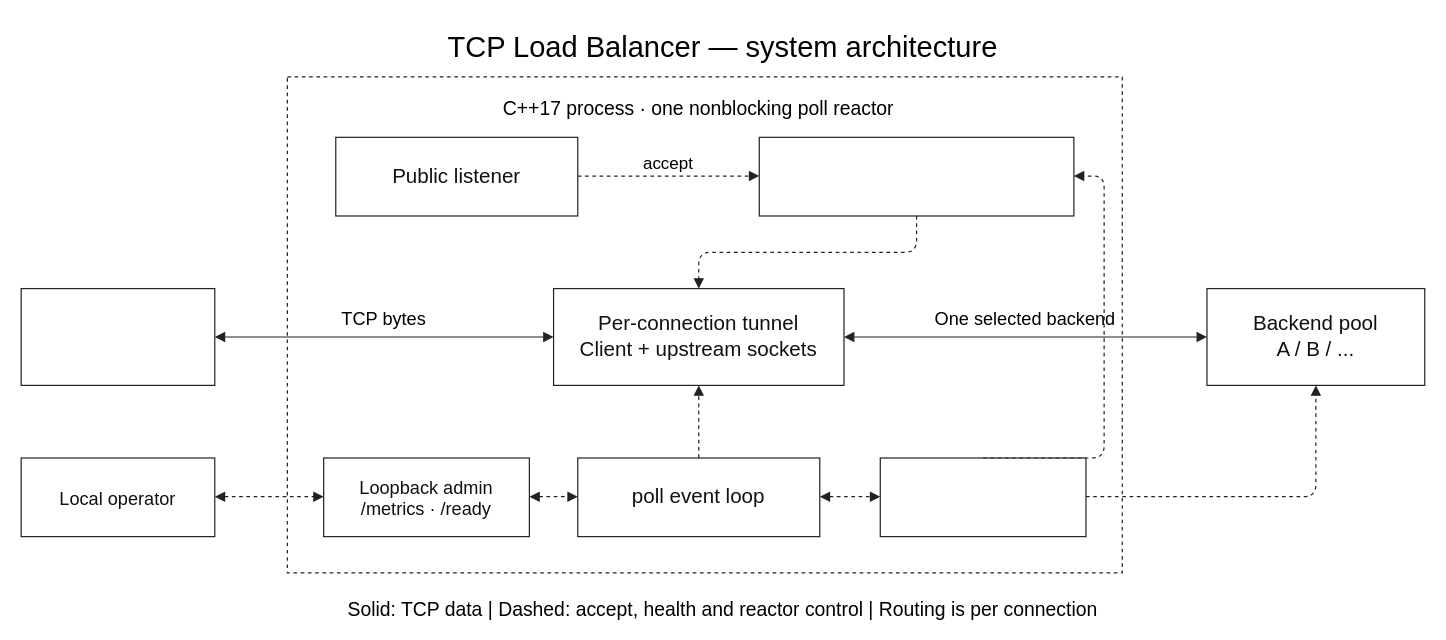
Some shapes in this 1446 by 640 pixel diagram are drawn without their labels. The shapes that lost their labels are listed below. From the top down, each one's centre as x and y in pixels, then its label:
At (916,176): "Healthy backend selector Least connections / Round robin".
At (117,336): "TCP clients".
At (982,497): "TCP health probes".
